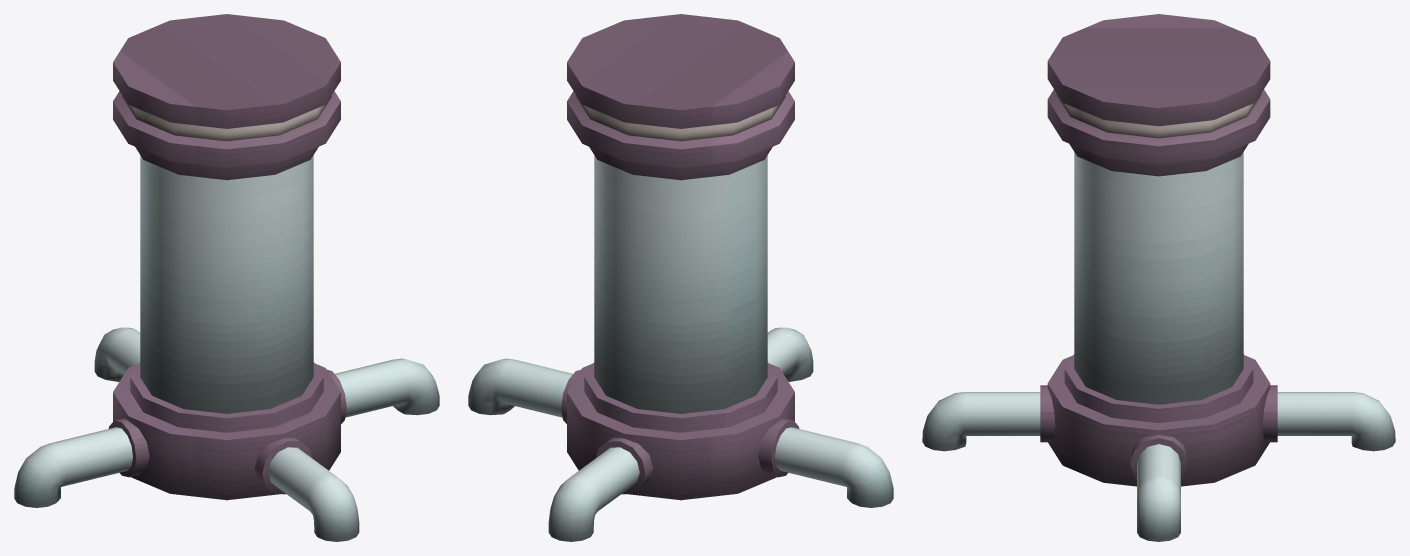
Rendered from SM_Sci_fi_Tube.fbx.
The picture shows the model from 3 angles, left to right: view 1: azimuth 30°, elevation 25°; view 2: azimuth 150°, elevation 25°; view 3: azimuth 270°, elevation 25°; orthographic projection. The views are drawn at different scales.
Parts seen in each view (by area): view 1: Sci_fi_Tube; view 2: Sci_fi_Tube; view 3: Sci_fi_Tube.
Part boxes in pixels (x1,y1,x2,y2): Sci_fi_Tube: (14, 14, 439, 541); Sci_fi_Tube: (468, 14, 893, 541); Sci_fi_Tube: (922, 14, 1395, 541).
Size of the model in its own units: 227 by 202 by 227.
1 material, 1 textured.
